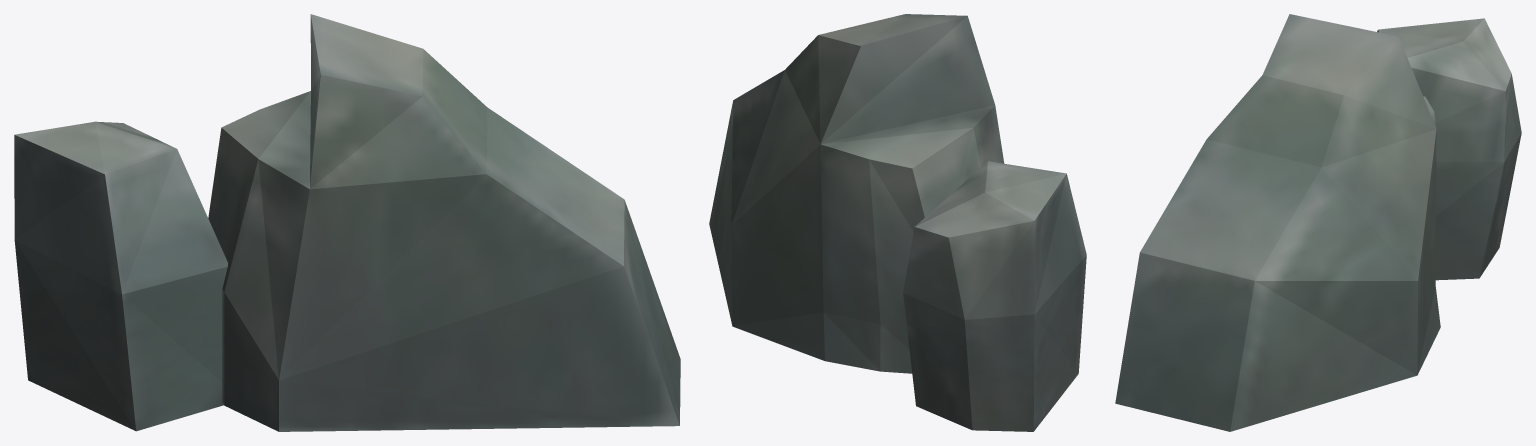
The model's file is Area_09_15.fbx.
The picture shows the model from 3 angles, left to right: view 1: azimuth 30°, elevation 25°; view 2: azimuth 150°, elevation 25°; view 3: azimuth 270°, elevation 25°; orthographic projection. The views are drawn at different scales.
Visible parts, largest first — view 1: Area_09_15; view 2: Area_09_15; view 3: Area_09_15.
Boxes of the visible parts, x1,y1,x2,y2 form: Area_09_15: [14, 14, 680, 431]; Area_09_15: [709, 14, 1086, 431]; Area_09_15: [1115, 14, 1521, 431].
Size of the model in its own units: 352 by 223 by 286.
